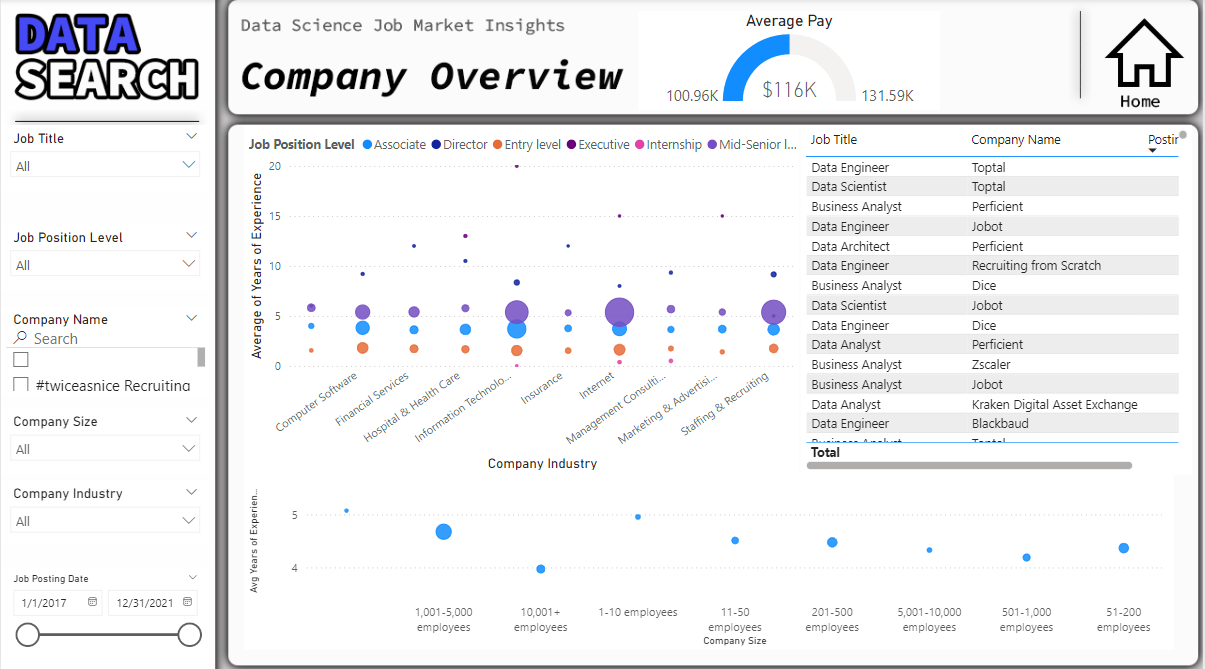

The dashboard page shown, as its layout file describes it:
{"tool":"powerbi","page":{"name":"Company","canvas":[1280,720],"ordinal":3},"visuals":[{"type":"slicer","fields":{"Values":["job_postings.Job Title"]},"box":[0,134.2,222.1,70.3],"z":0},{"type":"slicer","fields":{"Values":["job_postings.Job Position Level"]},"box":[0,239.7,222.1,70.3],"z":1000},{"type":"slicer","fields":{"Values":["job_postings.Company Name"]},"box":[0,327.5,222.1,94.3],"z":2000},{"type":"slicer","fields":{"Values":["job_postings.Company Size"]},"box":[0,436.2,222.1,70.3],"z":3000},{"type":"slicer","fields":{"Values":["job_postings.Company Industry"]},"box":[0,512.9,222.1,67.1],"z":4000},{"type":"slicer","fields":{"Values":["job_postings.Job Posting Date"]},"box":[0,605,222.1,115],"z":5000},{"type":"scatterChart","fields":{"X":["job_postings.Company Industry"],"Y":["Avg(job_postings.Years of Experience)"],"Size":["_Measures.Posting Count"],"Series":["job_postings.Job Position Level"]},"box":[258.8,134.2,591.1,372.3],"z":6000},{"type":"tableEx","fields":{"Values":["job_postings.Job Title","job_postings.Company Name","_Measures.Posting Count"]},"box":[851.6,134.2,417,372.3],"z":7000},{"type":"gauge","title":"Average Pay","fields":{"Y":["Avg(job_postings.Average Pay)"],"MinValue":["Avg(job_postings.Minimum Pay)"],"MaxValue":["Avg(job_postings.Maximum Pay)"]},"box":[679,12.8,321.1,105.4],"z":8000},{"type":"image","box":[1167.9,9.6,100.7,95.9],"z":9000},{"type":"scatterChart","fields":{"X":["job_postings.Company Size"],"Y":["Avg(job_postings.Years of Experience)"],"Size":["_Measures.Posting Count"]},"box":[258.8,506.5,990.6,186.9],"z":10000}]}

Visuals, with their boxes in screenshot pixels (x1, y1, x2, y2), scaled from the page's 1280x720 canvas onto the 1205x669 screenshot:
slicer - job_postings.Job Title: bbox(0, 125, 209, 190)
slicer - job_postings.Job Position Level: bbox(0, 223, 209, 288)
slicer - job_postings.Company Name: bbox(0, 304, 209, 392)
slicer - job_postings.Company Size: bbox(0, 405, 209, 471)
slicer - job_postings.Company Industry: bbox(0, 477, 209, 539)
slicer - job_postings.Job Posting Date: bbox(0, 562, 209, 668)
scatterChart - job_postings.Company Industry x Avg(job_postings.Years of Experience): bbox(244, 125, 800, 471)
tableEx - job_postings.Job Title x job_postings.Company Name: bbox(802, 125, 1194, 471)
"Average Pay" gauge: bbox(639, 12, 942, 110)
image: bbox(1099, 9, 1194, 98)
scatterChart - job_postings.Company Size x Avg(job_postings.Years of Experience): bbox(244, 471, 1176, 644)
